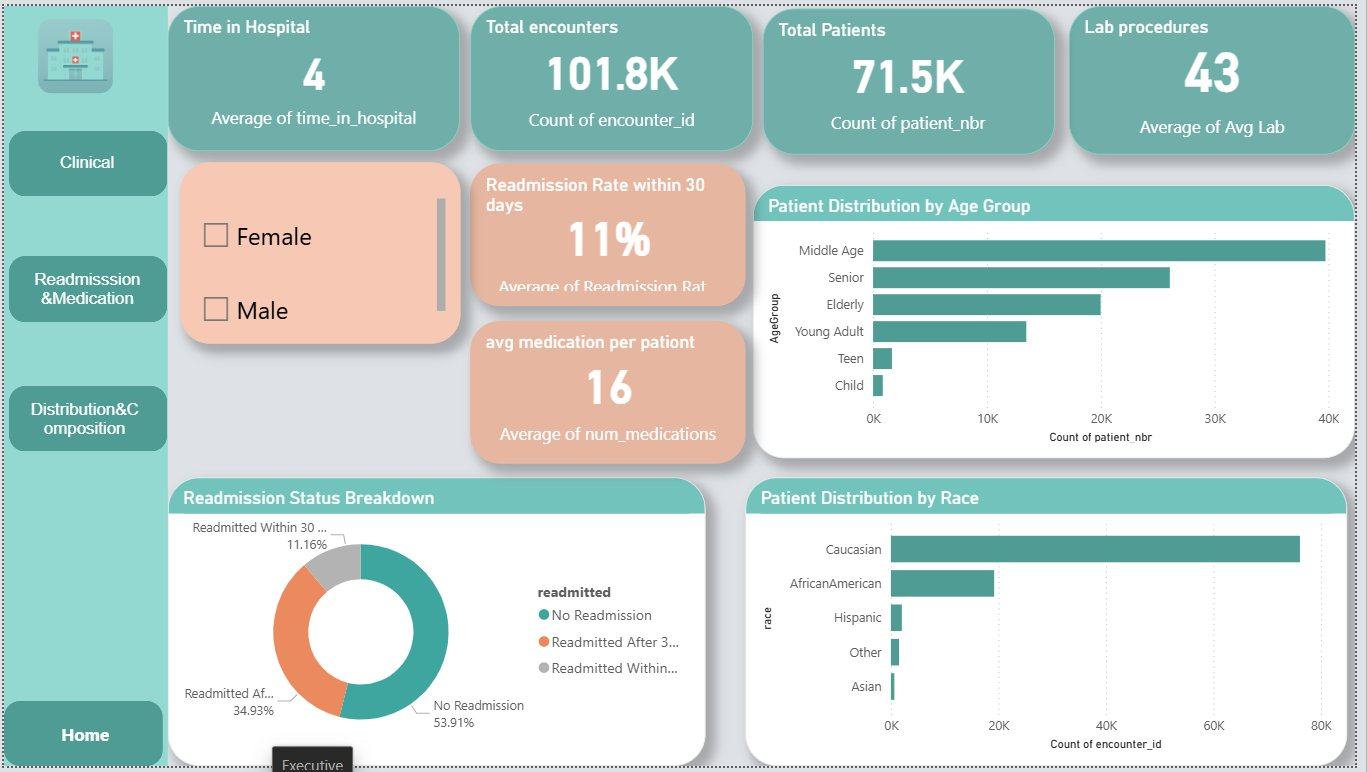

Layout of this report page (visuals, bound fields, positions):
{"tool":"powerbi","page":{"name":"Executive","canvas":[1280,720],"ordinal":1},"visuals":[{"type":"advanceCardE03760C5AB684758B56AA29F9E6C257B","title":"Lab procedures","fields":{"mainMeasure":["Avg(diabetic_data_cleaned4.Avg Lab)"]},"box":[1009,0,271.2,140.9],"z":0},{"type":"advanceCardE03760C5AB684758B56AA29F9E6C257B","title":"Time in Hospital","fields":{"mainMeasure":["Avg(diabetic_data_cleaned4.time_in_hospital)"]},"box":[155.1,0,277.1,137.4],"z":1000},{"type":"donutChart","title":"Readmission Status Breakdown","fields":{"Category":["diabetic_data_cleaned4.readmitted"],"Y":["Count(diabetic_data_cleaned4.encounter_id)"]},"box":[155.3,446.8,509.6,273.4],"z":2000},{"type":"clusteredBarChart","title":"Patient Distribution by Age Group","fields":{"Category":["diabetic_data_cleaned4.AgeGroup"],"Y":["CountNonNull(diabetic_data_cleaned4.patient_nbr)"]},"box":[709.6,169.1,570.2,259.6],"z":3000},{"type":"clusteredBarChart","title":"Patient Distribution by Race","fields":{"Category":["diabetic_data_cleaned4.race"],"Y":["Count(diabetic_data_cleaned4.encounter_id)"]},"box":[702.1,446.8,570.2,273.4],"z":4000},{"type":"shape","box":[0,0,155.5,720.2],"z":5000},{"type":"advanceCardE03760C5AB684758B56AA29F9E6C257B","title":"Total encounters","fields":{"mainMeasure":["Count(diabetic_data_cleaned4.encounter_id)"]},"box":[441.2,0,268.2,137.6],"z":6000},{"type":"shape","box":[4.5,359.6,149.9,62],"z":7000},{"type":"actionButton","box":[19.2,368.6,115,46.2],"z":8000},{"type":"shape","box":[4.7,237.1,149.9,62.8],"z":9000},{"type":"shape","box":[4.7,118.1,149.9,61.9],"z":10000},{"type":"actionButton","box":[28.1,128.4,100.3,40.3],"z":11000},{"type":"actionButton","box":[21,242.4,115.4,51.4],"z":12000},{"type":"shape","box":[0,658.5,150.4,61.6],"z":13000},{"type":"actionButton","box":[27.2,669.1,99.5,40.3],"z":14000},{"type":"advanceCardE03760C5AB684758B56AA29F9E6C257B","title":"Readmission Rate within 30 days","fields":{"mainMeasure":["Avg(diabetic_data_cleaned4.Readmission Rate Any)"]},"box":[441.2,149.4,261.2,135.3],"z":15000},{"type":"slicer","title":"                                     ","fields":{"Values":["diabetic_data_cleaned4.gender"]},"box":[167.1,148.2,265.9,171.8],"z":16000},{"type":"advanceCardE03760C5AB684758B56AA29F9E6C257B","title":"Total Patients","fields":{"mainMeasure":["Count(diabetic_data_cleaned4.patient_nbr)"]},"box":[719.1,2.1,276.6,138.3],"z":17000},{"type":"advanceCardE03760C5AB684758B56AA29F9E6C257B","title":"avg medication per pationt","fields":{"mainMeasure":["Avg(diabetic_data_cleaned4.num_medications)"]},"box":[441.2,298.8,261.2,135.3],"z":17001},{"type":"image","box":[18.8,0,97.6,96.5],"z":17002}]}

Visuals, with their boxes in screenshot pixels (x1, y1, x2, y2), scaled from the page's 1280x720 canvas onto the 1367x772 screenshot:
"Lab procedures" advanceCardE03760C5AB684758B56AA29F9E6C257B: <bbox>1078, 0, 1366, 151</bbox>
"Time in Hospital" advanceCardE03760C5AB684758B56AA29F9E6C257B: <bbox>166, 0, 462, 147</bbox>
"Readmission Status Breakdown" donutChart: <bbox>166, 479, 710, 771</bbox>
"Patient Distribution by Age Group" clusteredBarChart: <bbox>758, 181, 1366, 460</bbox>
"Patient Distribution by Race" clusteredBarChart: <bbox>750, 479, 1359, 771</bbox>
shape: <bbox>0, 0, 166, 771</bbox>
"Total encounters" advanceCardE03760C5AB684758B56AA29F9E6C257B: <bbox>471, 0, 758, 148</bbox>
shape: <bbox>5, 386, 165, 452</bbox>
actionButton: <bbox>21, 395, 143, 445</bbox>
shape: <bbox>5, 254, 165, 322</bbox>
shape: <bbox>5, 127, 165, 193</bbox>
actionButton: <bbox>30, 138, 137, 181</bbox>
actionButton: <bbox>22, 260, 146, 315</bbox>
shape: <bbox>0, 706, 161, 771</bbox>
actionButton: <bbox>29, 717, 135, 761</bbox>
"Readmission Rate within 30 days" advanceCardE03760C5AB684758B56AA29F9E6C257B: <bbox>471, 160, 750, 305</bbox>
"                                     " slicer: <bbox>178, 159, 462, 343</bbox>
"Total Patients" advanceCardE03760C5AB684758B56AA29F9E6C257B: <bbox>768, 2, 1063, 151</bbox>
"avg medication per pationt" advanceCardE03760C5AB684758B56AA29F9E6C257B: <bbox>471, 320, 750, 465</bbox>
image: <bbox>20, 0, 124, 103</bbox>
